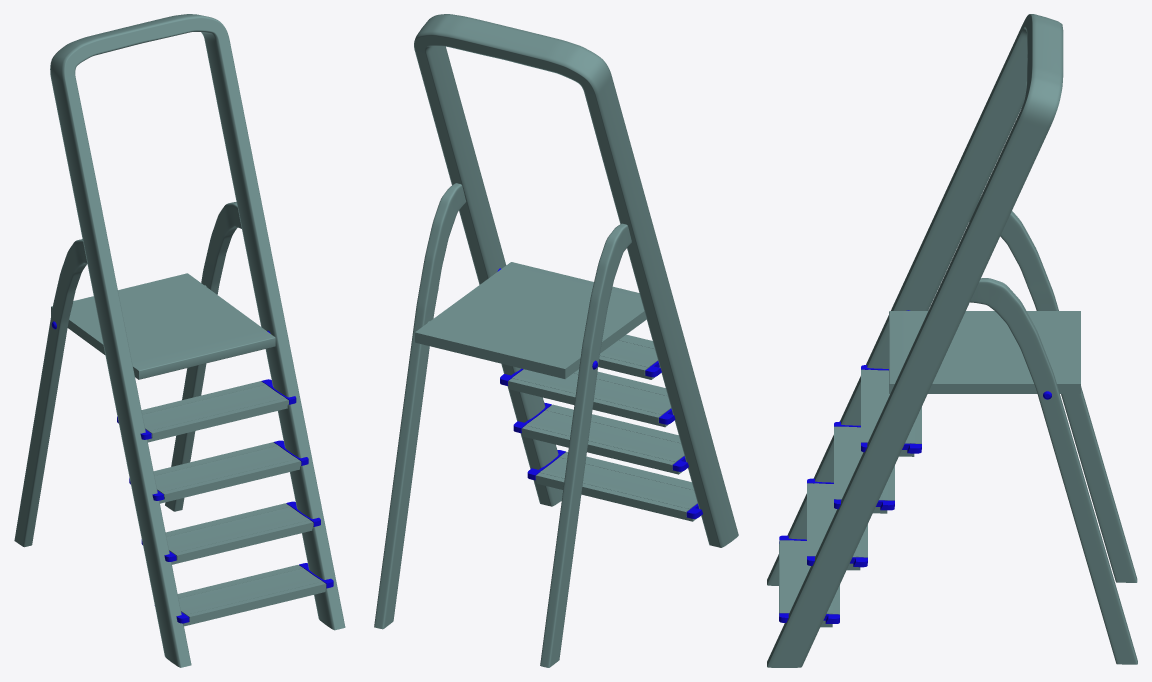
File: Stepladder.fbx
3 views of the same model, side by side, from view 1: azimuth 30°, elevation 25°; view 2: azimuth 150°, elevation 25°; view 3: azimuth 270°, elevation 25° (orthographic). The views are drawn at different scales.
Visible parts, largest first — view 1: Object001; view 2: Object001; view 3: Object001.
Boxes of the visible parts, x1,y1,x2,y2 form: Object001: (14,14,345,667); Object001: (374,14,738,667); Object001: (767,14,1137,667).
Size of the model in its own units: 51.86 by 157 by 91.38.
